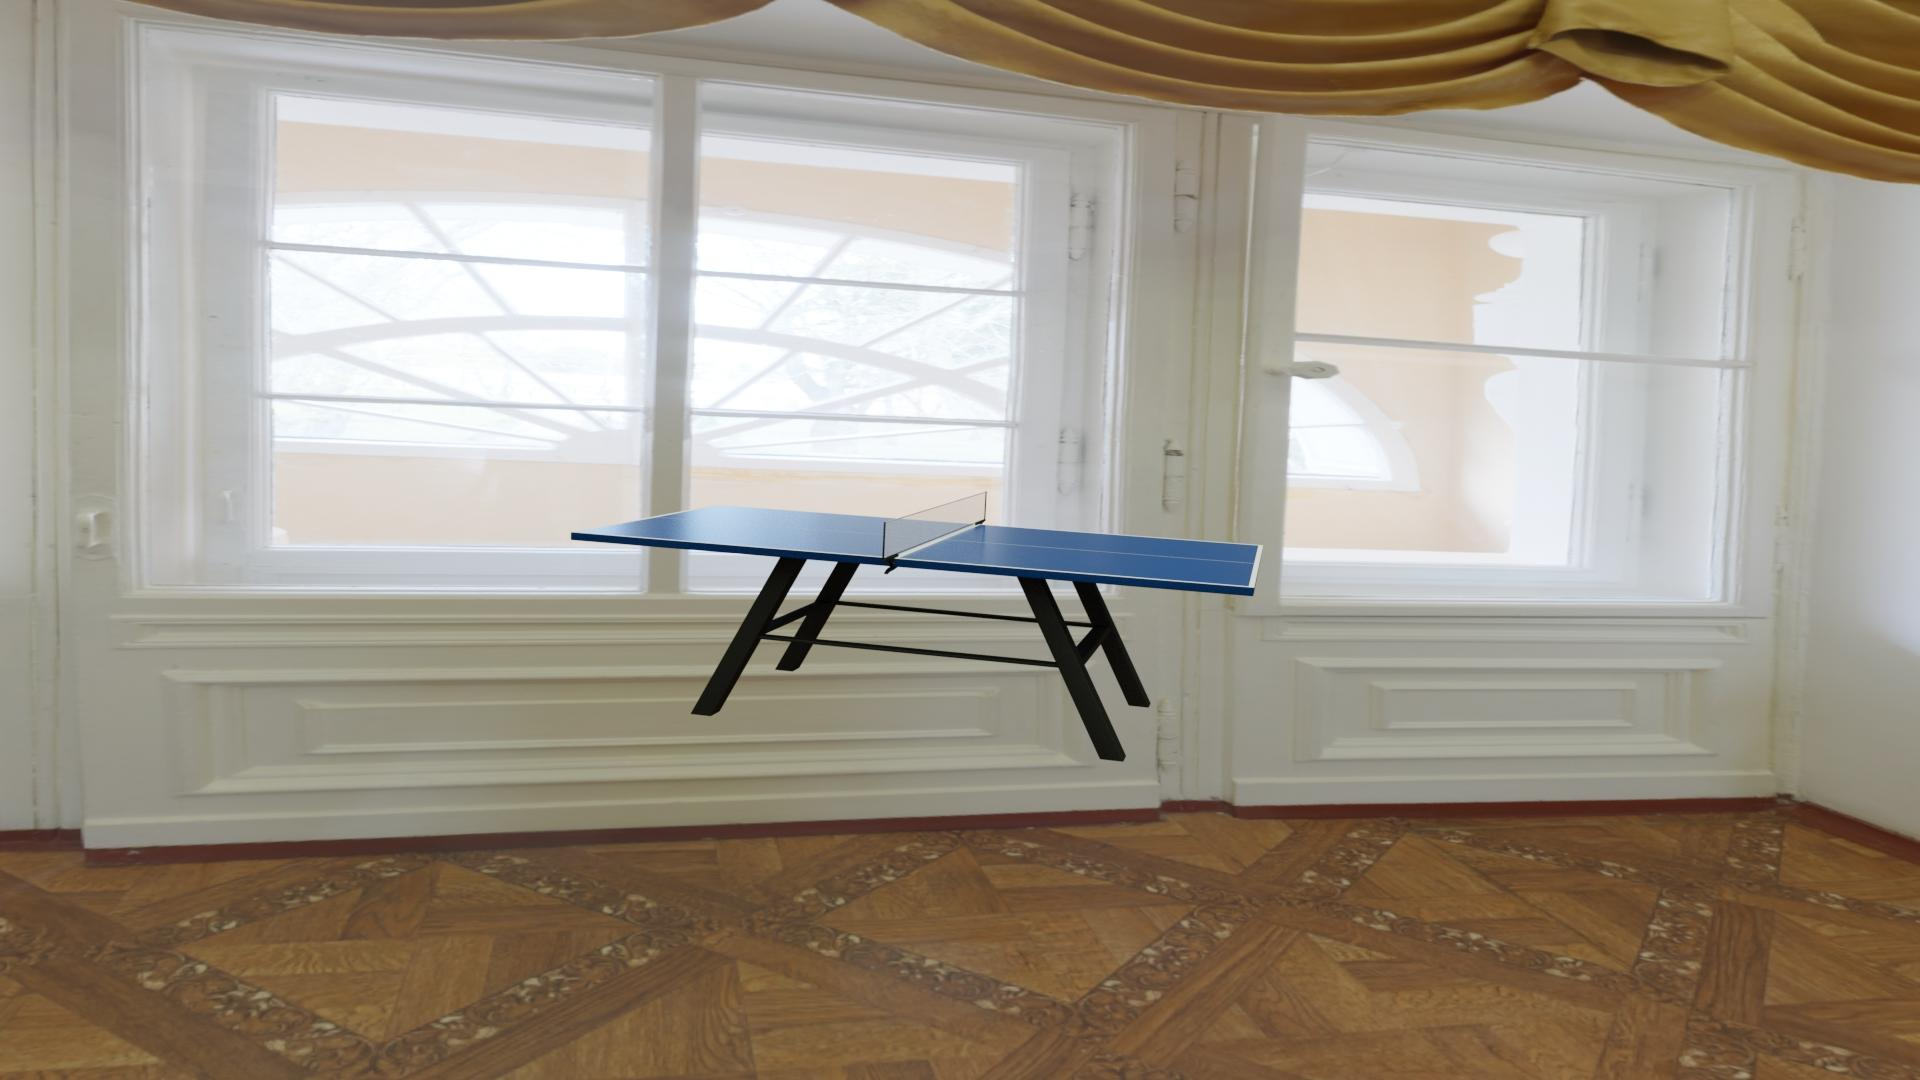table: (578, 505, 1258, 587)
